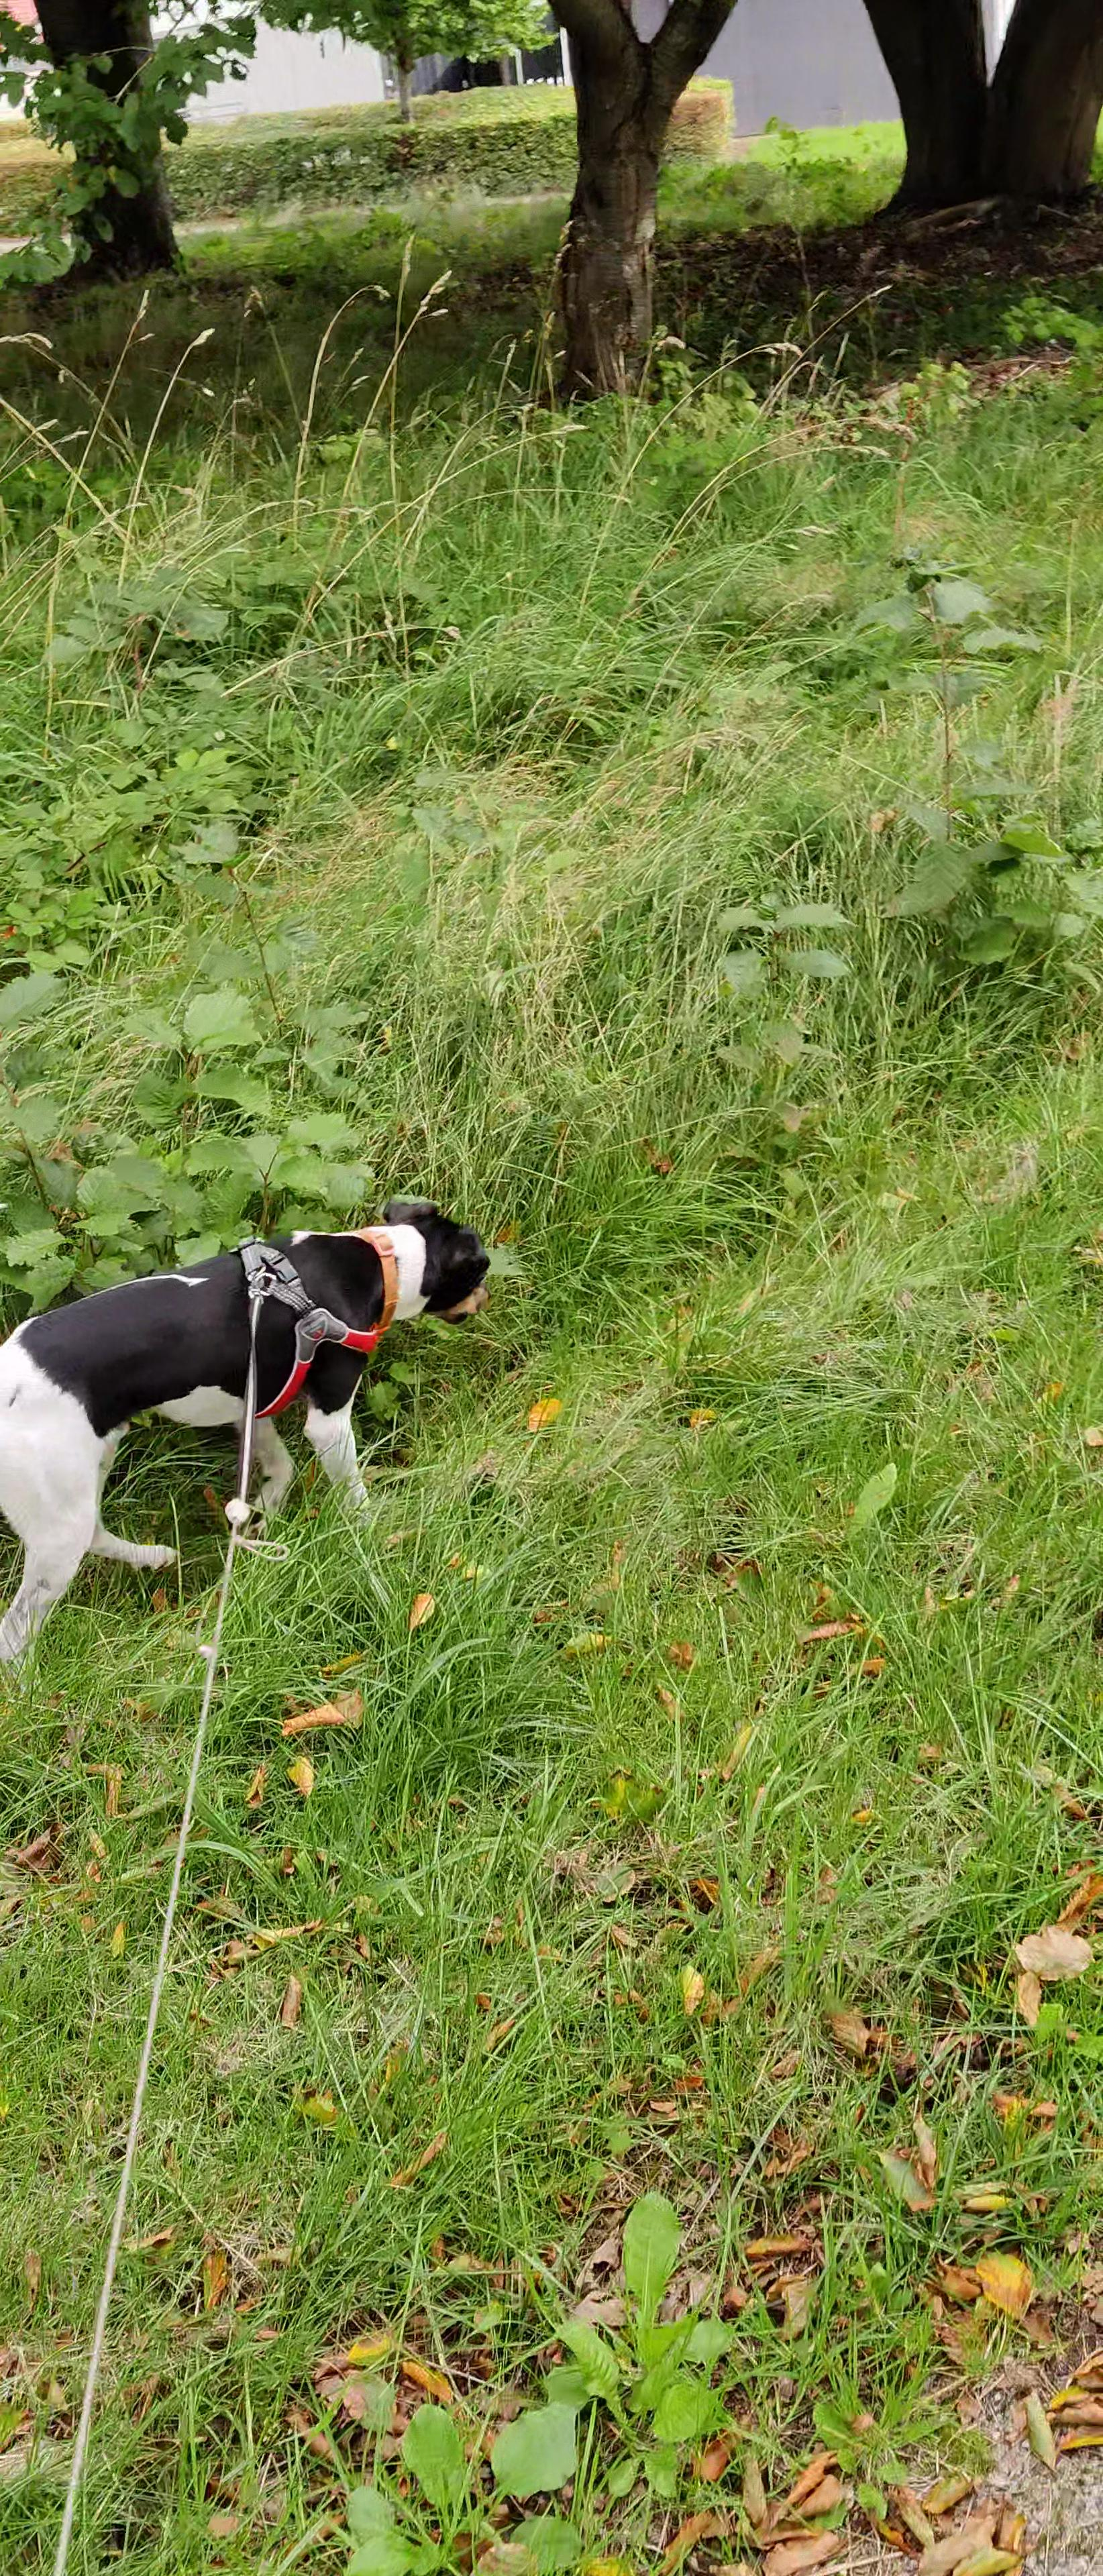Dog: (0, 1186, 510, 1666)
